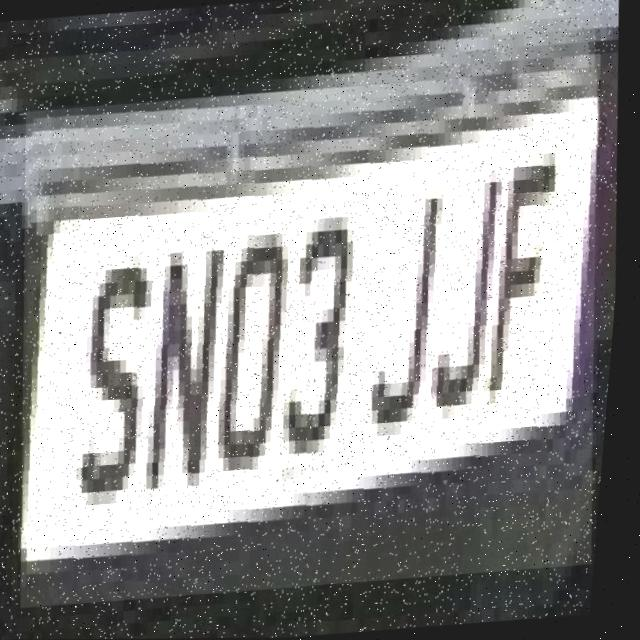LicensePlate: (0, 68, 632, 608)
